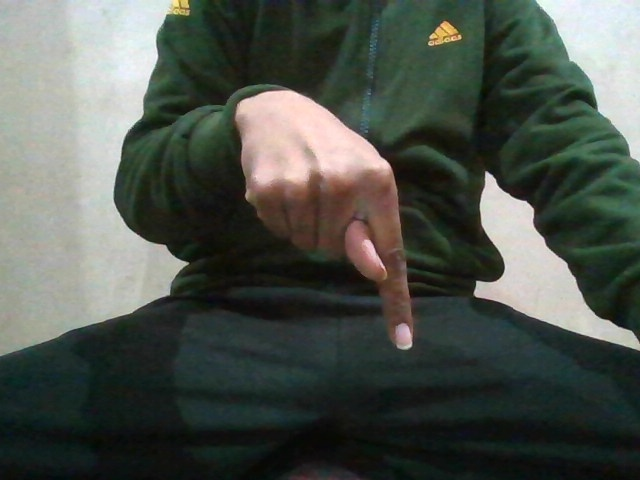Z: (248, 112, 422, 354)
